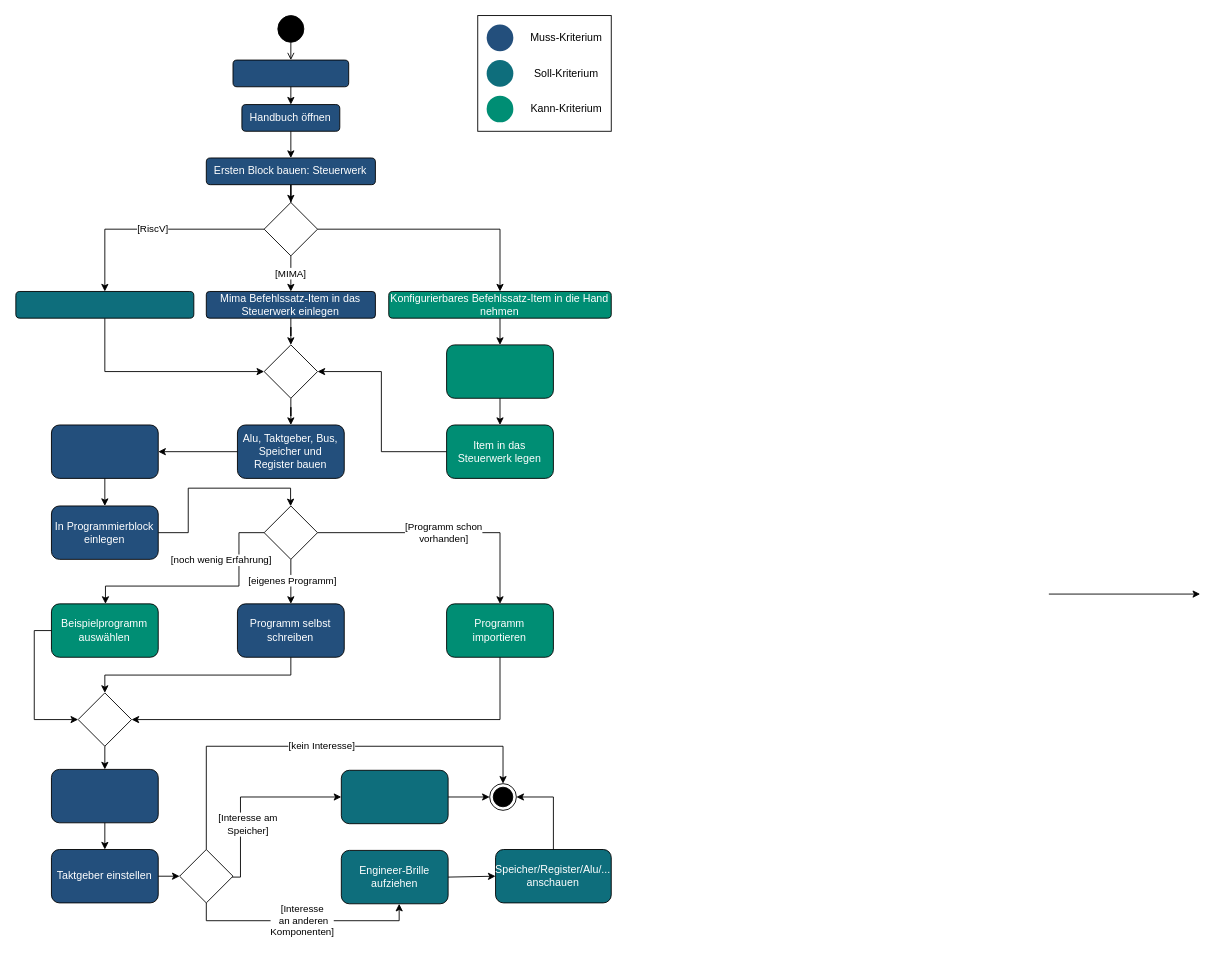
Image size: 1223x954. Some labels were removed from this diagram. The shapes that lost their labels are listed below. From the top down, each one's centre as x and y in pixels, then its label:
At point 290,73: "Minecraft Welt laden".
At point 104,304: "RiscV-Befehlssatz-Item in das Steuerwerk einlegen".
At point 499,371: "Item bearbeiten".
At point 104,451: "Leeres Programm-Item in die Hand nehmen".
At point 104,796: "Item beschreiben und aus dem Block nehmen".
At point 394,796: "Speicherblock öffnen und inspizieren".
